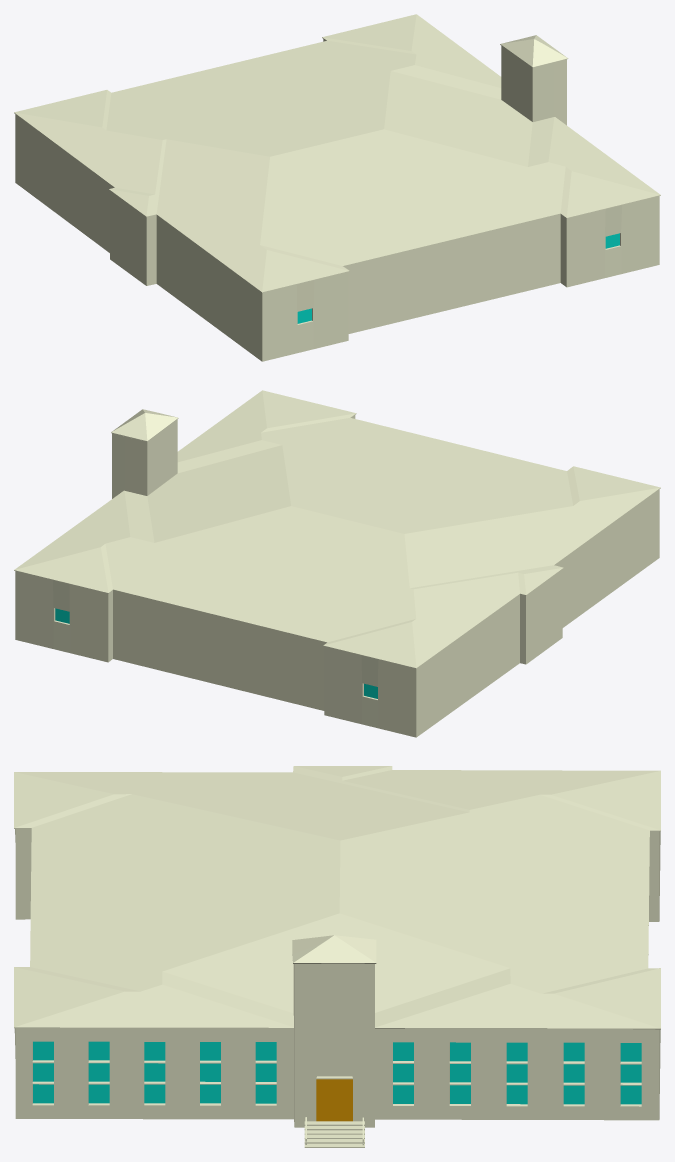
File: Madsen Building.fbx
3 views of the same model, one above another, from view 1: azimuth 30°, elevation 25°; view 2: azimuth 150°, elevation 25°; view 3: azimuth 270°, elevation 25° (orthographic). The views are drawn at different scales.
Parts seen in each view (by area): view 1: Madsen Building; view 2: Madsen Building; view 3: Madsen Building.
Boxes of the visible parts, bbox=[...] form: Madsen Building: bbox=[14, 14, 660, 361]; Madsen Building: bbox=[14, 390, 660, 737]; Madsen Building: bbox=[14, 766, 660, 1147].
Bounding box in the file's own units: 7077 × 2072 × 6687.
